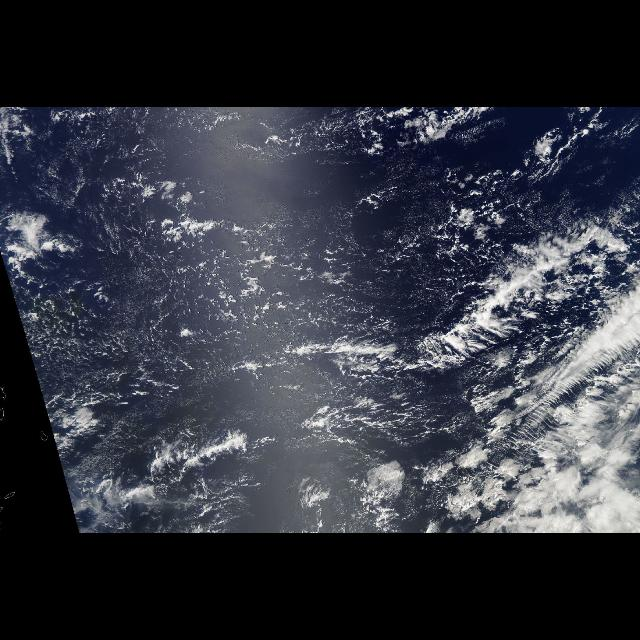Fish: (367, 202, 639, 486)
Gravel: (40, 230, 354, 408)
Sugar: (7, 253, 227, 427)
